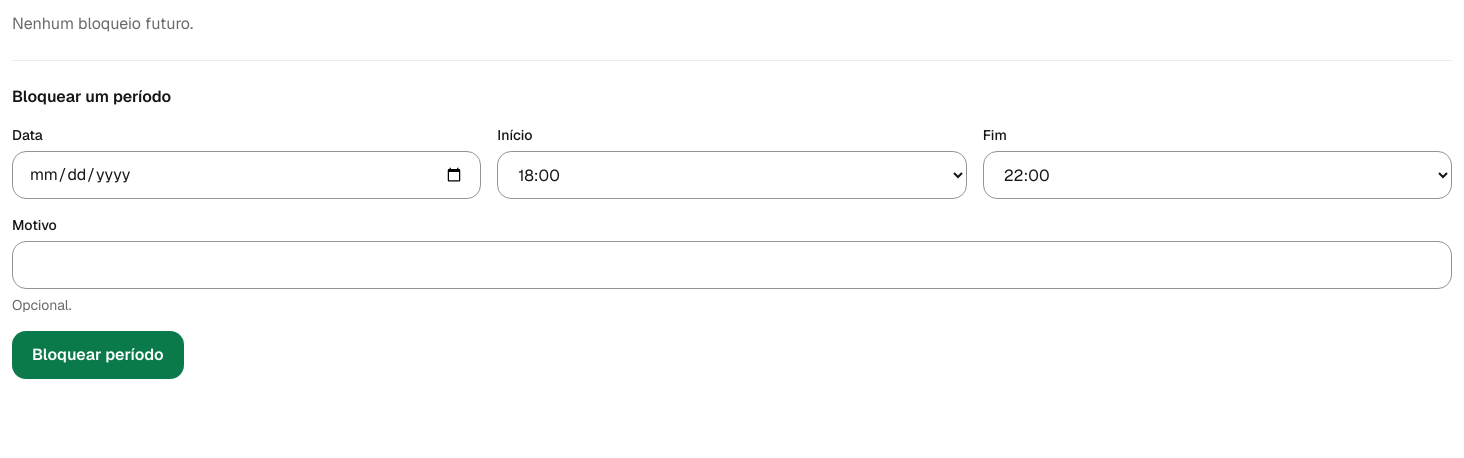
Test case: BlocksEditor › shows the 409 detail when the period is already blocked
The width and height of the screenshot is (1464, 458).
Type "2026-10-31" into the date field labelled "Data". click: (247, 175)
box: [12, 151, 481, 199]
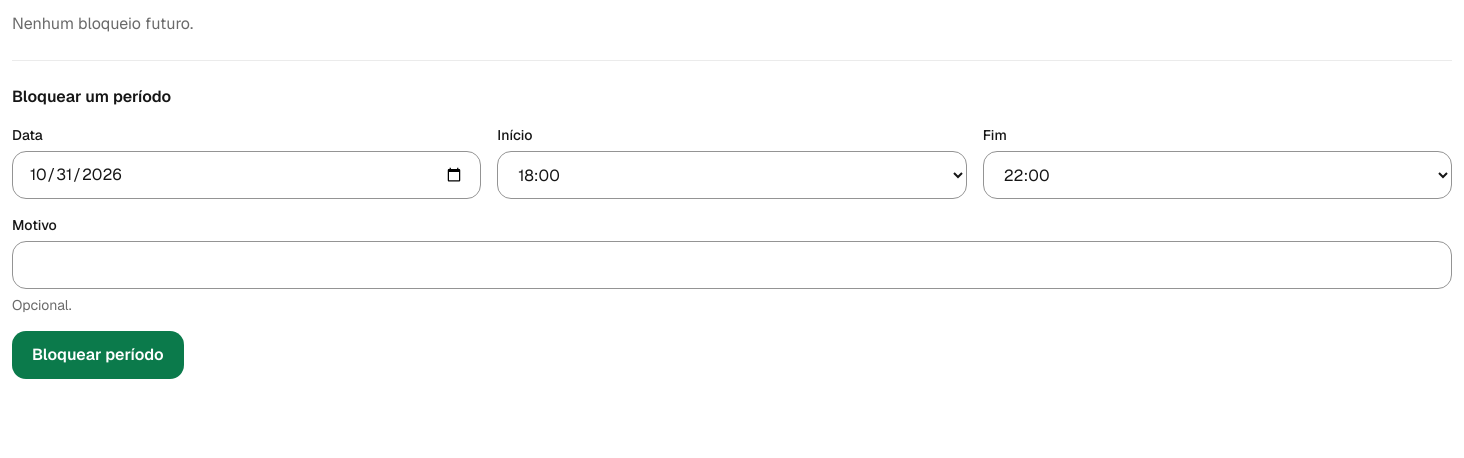
Select "18:00" in the dropdown labelled "Início". click: (732, 175)
box: [497, 151, 967, 199]
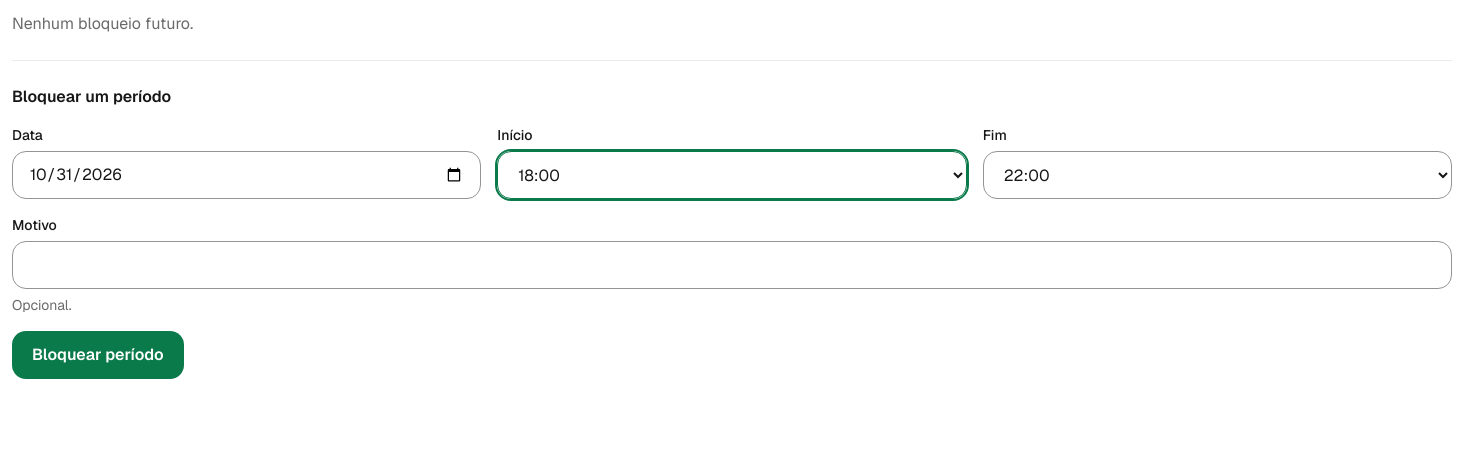
Select "22:00" in the dropdown labelled "Fim". click: (1217, 175)
box: [983, 151, 1452, 199]
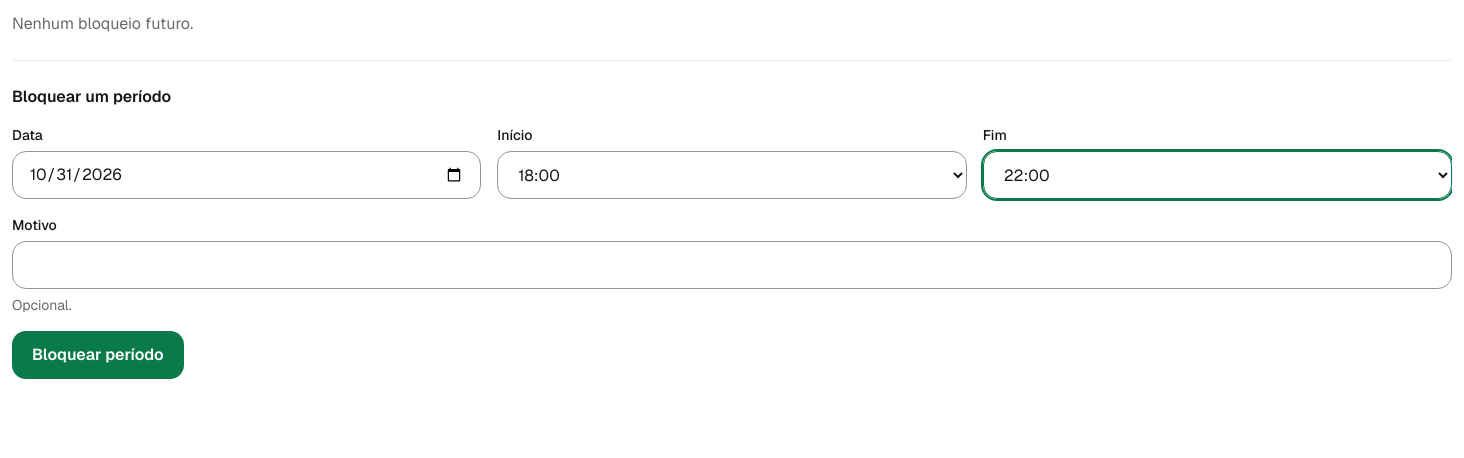
Click the button "Bloquear período". click: (98, 355)
box: [12, 331, 184, 379]
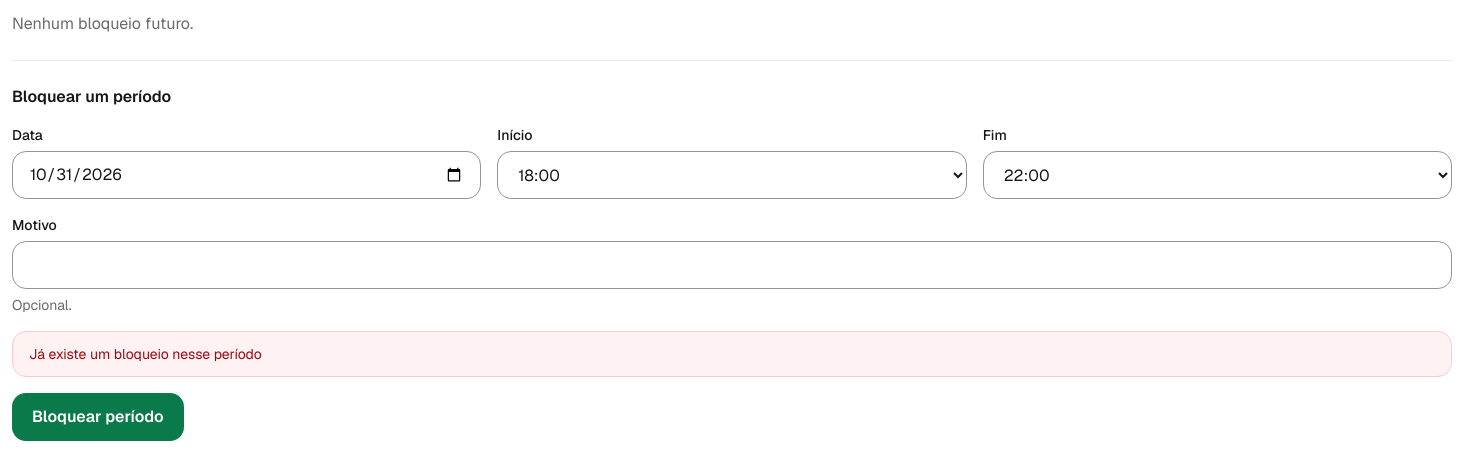
Now the message reads "Já existe um bloqueio nesse período", box [29, 345, 262, 363]
